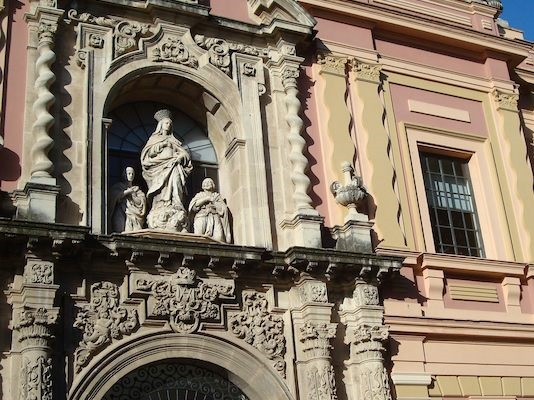arco-medio-punto: (97, 63, 242, 151)
columna-salomonica: (280, 81, 318, 214), (28, 37, 57, 184)
vano-adintelado: (405, 121, 510, 261)
